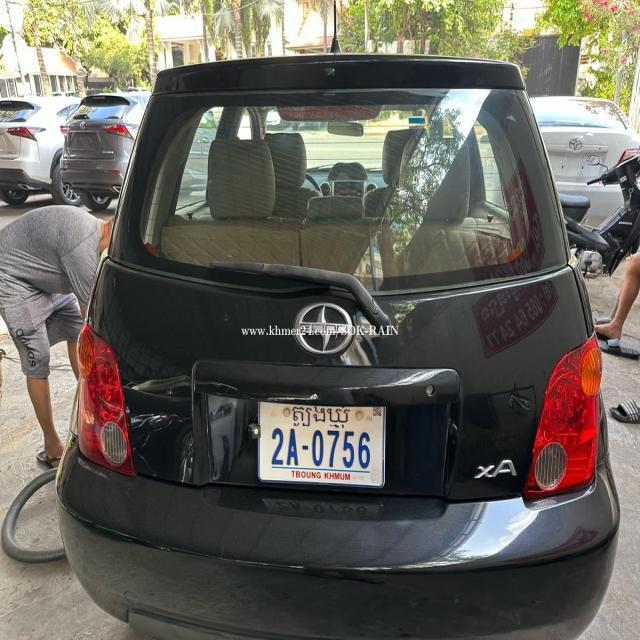Tboung_Khmum: (293, 405, 350, 428)
